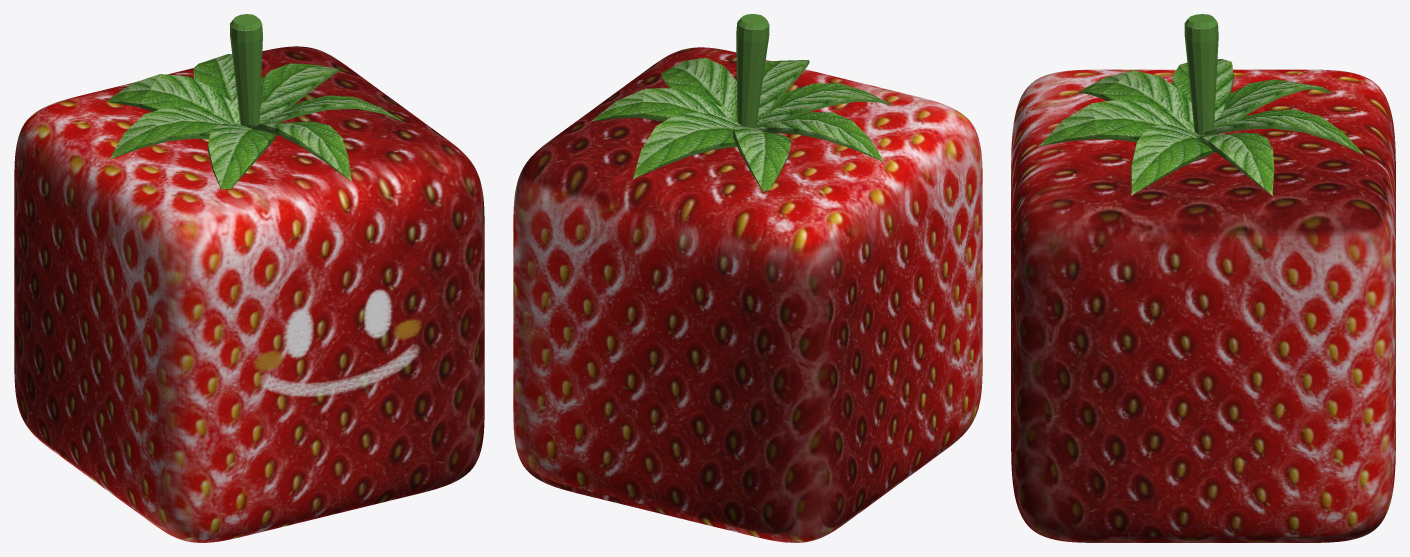
The model's file is Strawberry.glb.
3 renders of one model, left to right at view 1: azimuth 30°, elevation 25°; view 2: azimuth 150°, elevation 25°; view 3: azimuth 270°, elevation 25°, orthographic. The views are drawn at different scales.
Parts seen in each view (by area): view 1: 상자_1_상자_상자_1_상자, 튜브_튜브_7 (×7), 튜브_튜브_1; view 2: 상자_1_상자_상자_1_상자, 튜브_튜브_7 (×7), 튜브_튜브_1; view 3: 상자_1_상자_상자_1_상자, 튜브_튜브_7 (×7), 튜브_튜브_1.
Part boxes in pixels (bbox=[...]): 상자_1_상자_상자_1_상자: bbox=[14, 46, 484, 542]; 튜브_튜브_7 (×7): bbox=[109, 54, 405, 188]; 튜브_튜브_1: bbox=[229, 14, 262, 126]; 상자_1_상자_상자_1_상자: bbox=[513, 47, 982, 542]; 튜브_튜브_7 (×7): bbox=[590, 57, 891, 191]; 튜브_튜브_1: bbox=[736, 14, 769, 128]; 상자_1_상자_상자_1_상자: bbox=[1011, 69, 1395, 542]; 튜브_튜브_7 (×7): bbox=[1039, 59, 1363, 195]; 튜브_튜브_1: bbox=[1184, 14, 1218, 135].
Size of the model in its own units: 1 by 1.32 by 1.
Materials: 3 (3 with a texture image).
